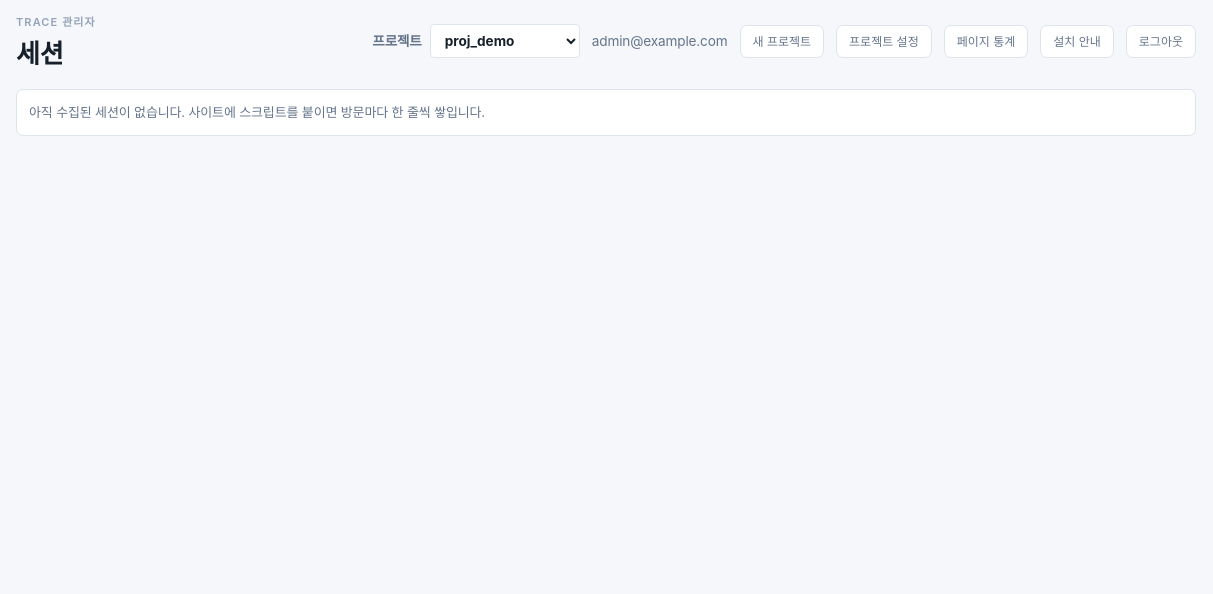
it: App 프로젝트 설정 › 프로젝트 설정 저장 실패를 한국어 안내로 표시한다
The image size is (1213, 594).
Click the button "프로젝트 설정". click: (884,41)
box: [836,25,932,58]
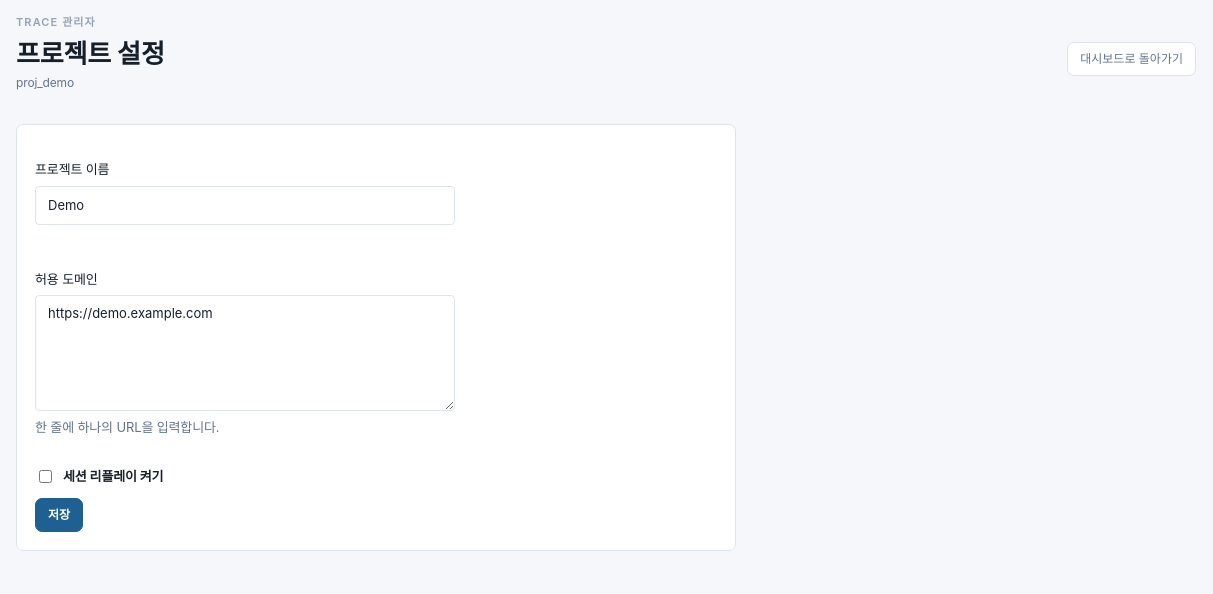
Replace the text in the field labelled "프로젝트 이름" with "New Demo". click: (245,205)
box: [35,186,455,225]
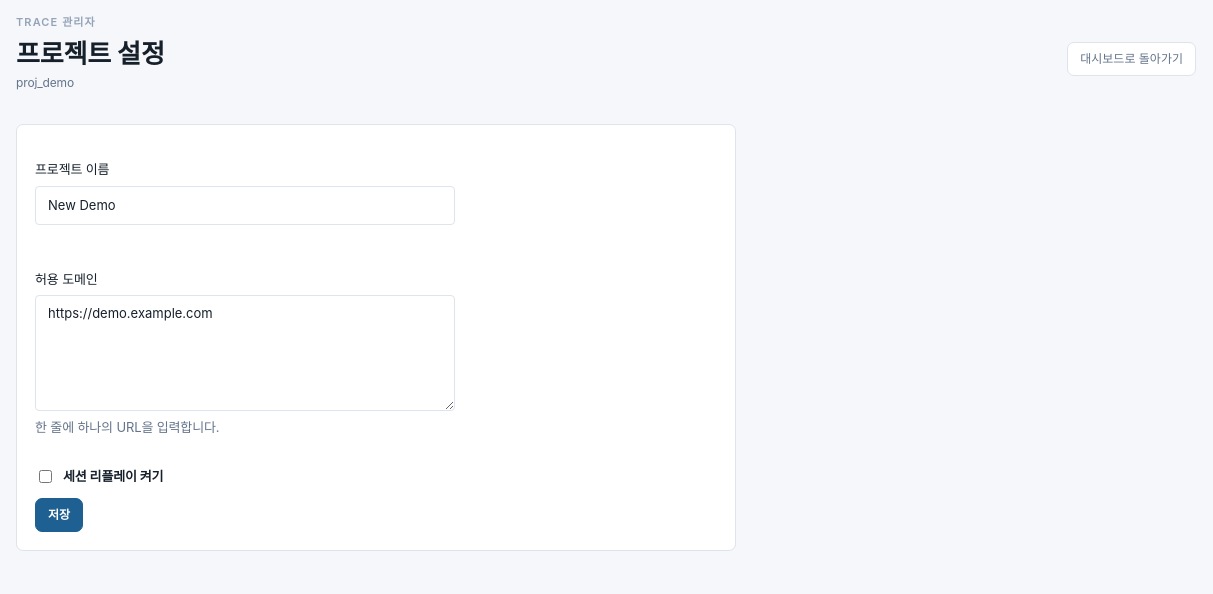
Click the button "저장". click: (59,515)
box: [35,498,83,532]
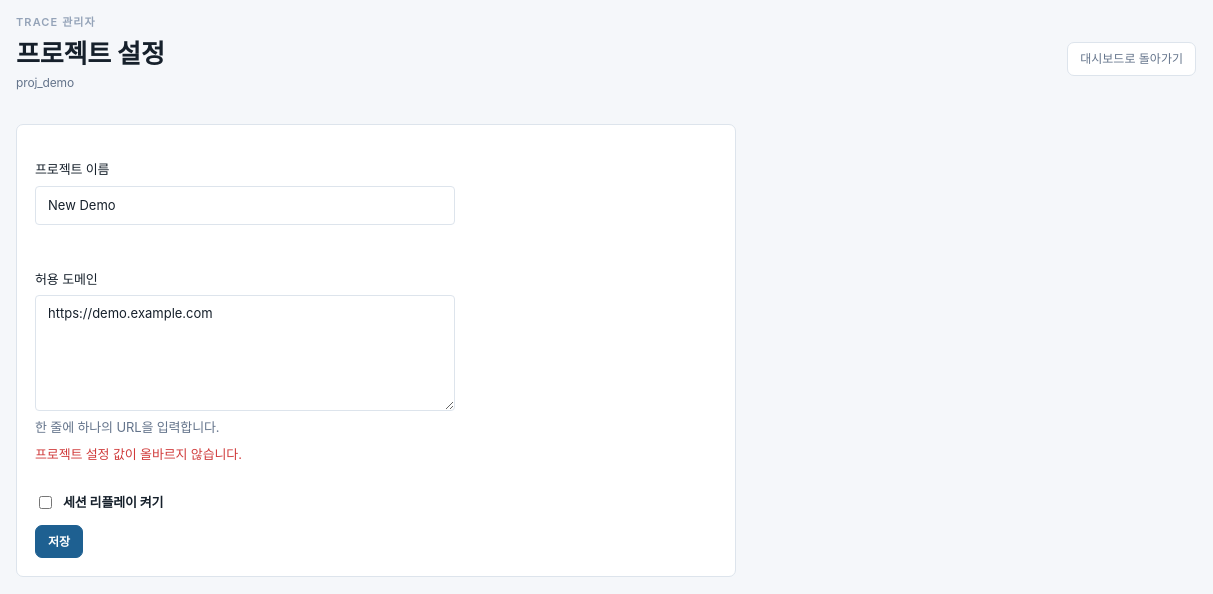
Check: the text "프로젝트 설정 값이 올바르지 않습니다." is shown, box [35,446,242,462]
